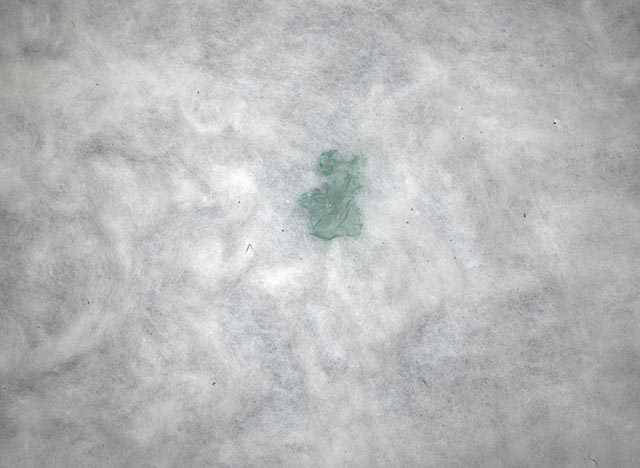plastic film: (296, 148, 368, 242)
